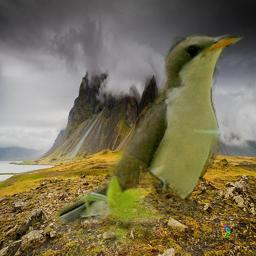Cuckoo: (57, 29, 245, 251)
